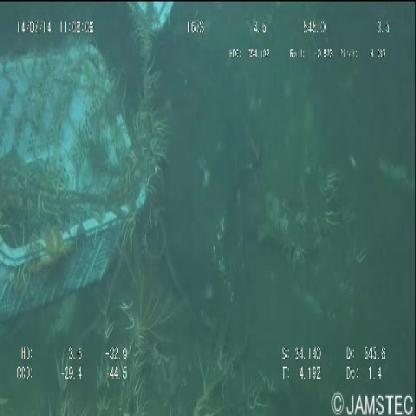Rác: (1, 3, 189, 330)
